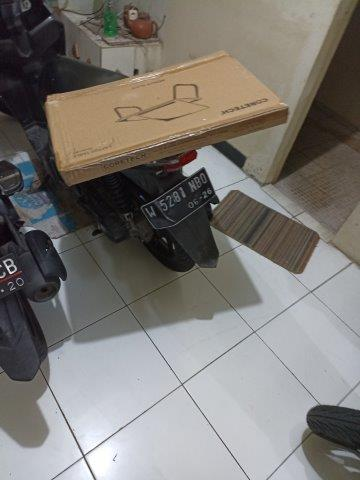kardus: (50, 53, 289, 185)
